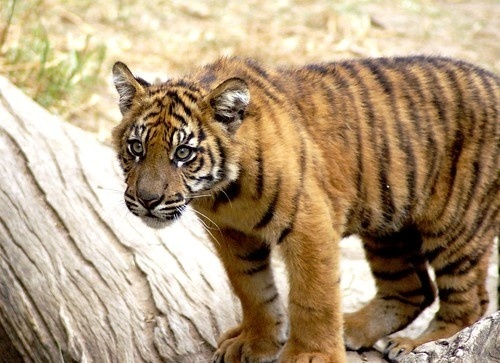tigre: (108, 54, 499, 363)
